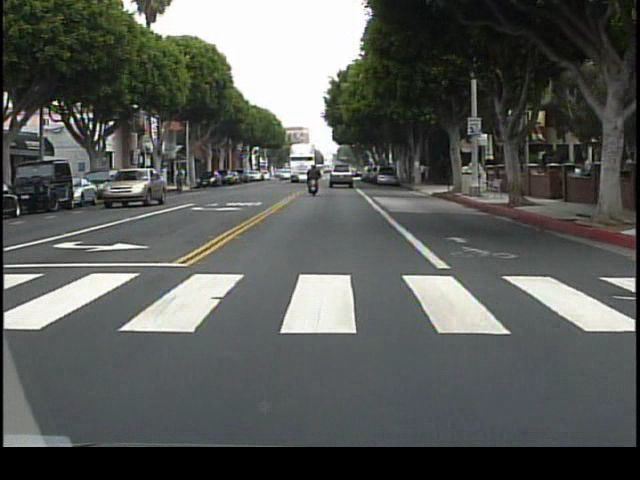person: (305, 159, 323, 199), (167, 164, 187, 190), (424, 161, 433, 188), (420, 162, 426, 185)
